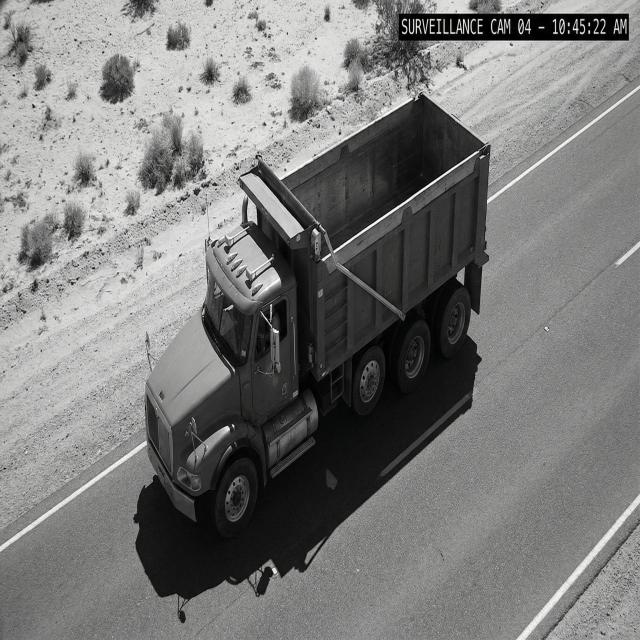trailer: (238, 92, 488, 268)
truck: (142, 77, 497, 524)
